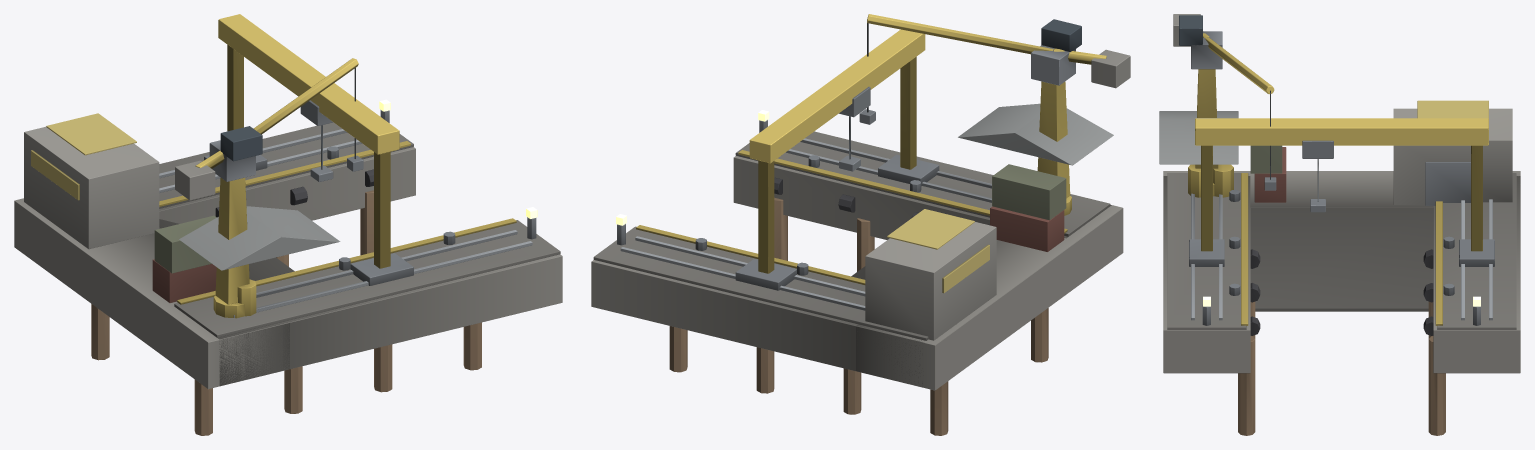
File: naval_yard.glb
The picture shows the model from 3 angles, left to right: view 1: azimuth 30°, elevation 25°; view 2: azimuth 150°, elevation 25°; view 3: azimuth 270°, elevation 25°; orthographic projection. The views are drawn at different scales.
Visible parts, largest first — view 1: Body, Gantry, Crane; view 2: Body, Gantry, Crane; view 3: Body, Gantry, Crane.
Part boxes in pixels (bbox=[...]): Body: bbox=[14, 99, 562, 435]; Gantry: bbox=[204, 14, 413, 285]; Crane: bbox=[175, 58, 363, 200]; Body: bbox=[591, 81, 1123, 435]; Gantry: bbox=[735, 29, 939, 290]; Crane: bbox=[859, 14, 1130, 124]; Body: bbox=[1159, 69, 1520, 435]; Gantry: bbox=[1189, 118, 1494, 266]; Crane: bbox=[1173, 14, 1276, 190].
Bounding box in the file's own units: 9.85 × 8.3 × 9.1.
